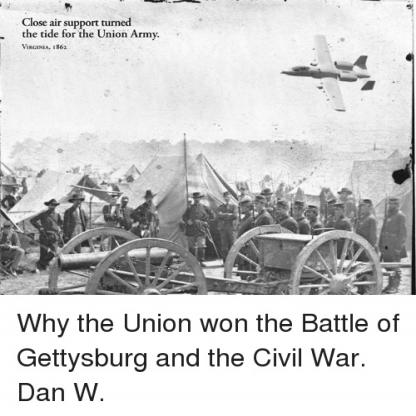A10: (281, 35, 377, 113)
